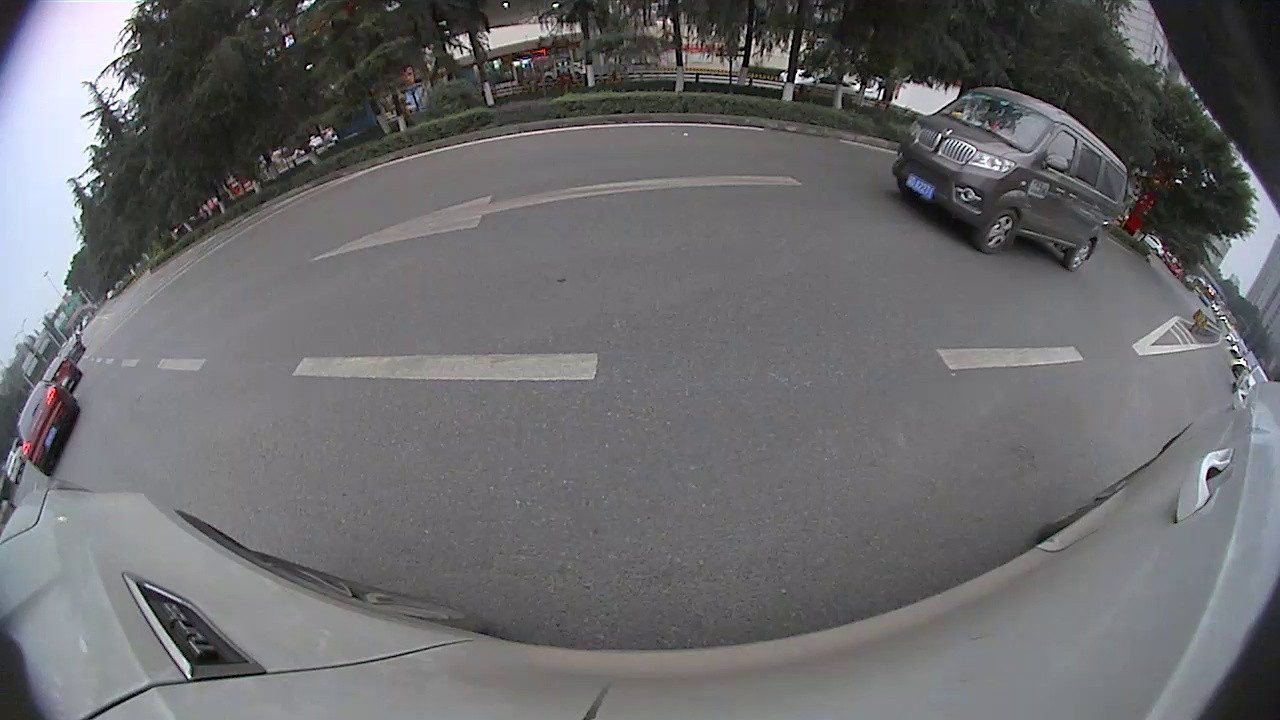car: (893, 82, 1131, 274), (14, 387, 78, 478)
front: (976, 206, 1020, 258)
rear: (1062, 236, 1095, 273)
